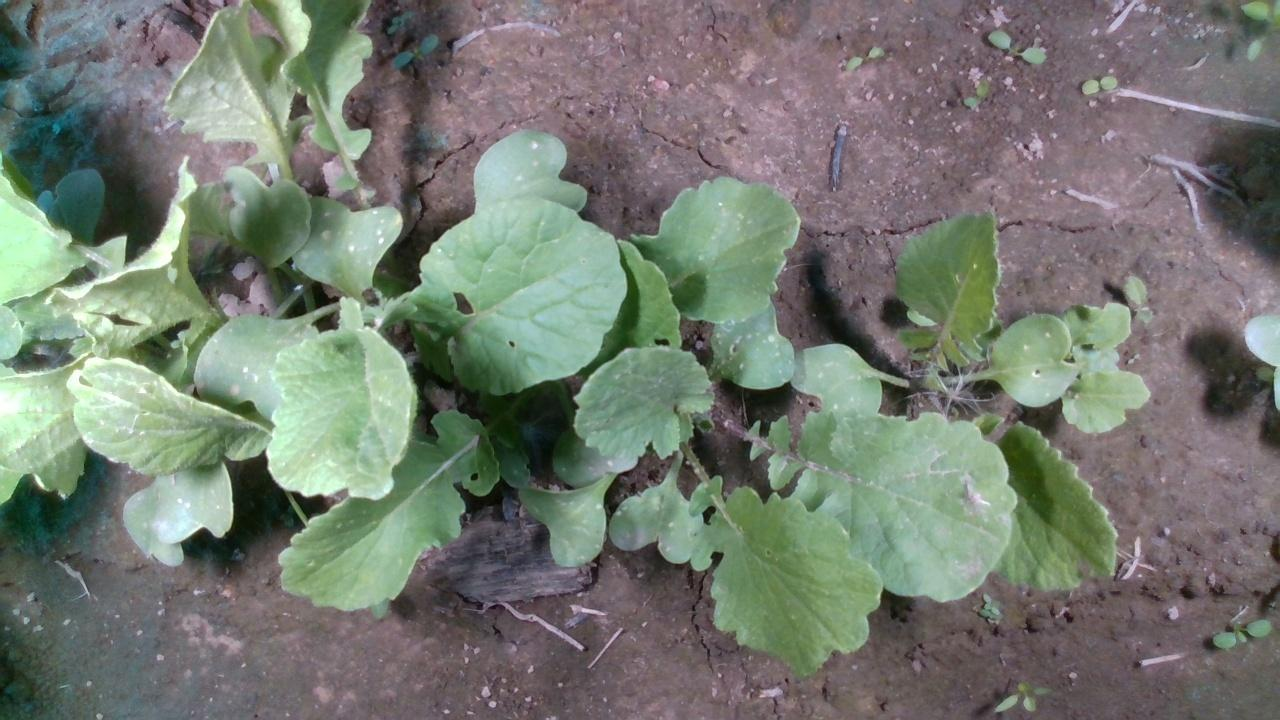weed: (990, 677, 1056, 712), (986, 28, 1047, 63), (1210, 617, 1272, 649), (842, 44, 884, 72), (962, 73, 988, 109), (1079, 74, 1116, 94)
